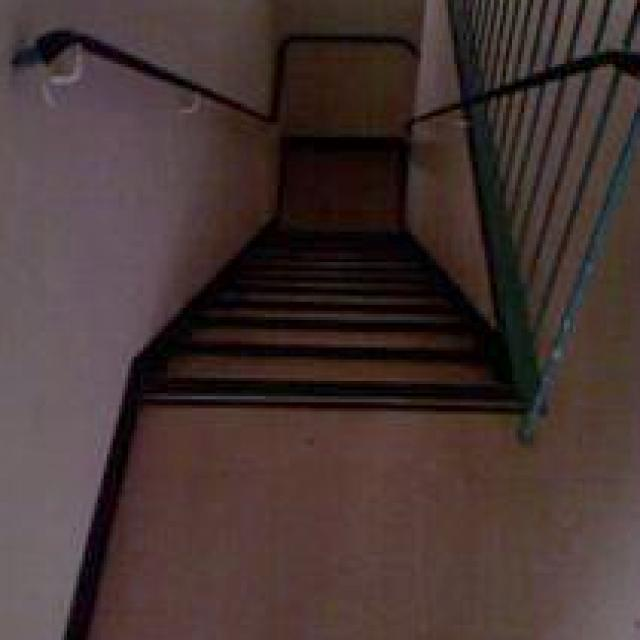downstair: (111, 242, 553, 455)
